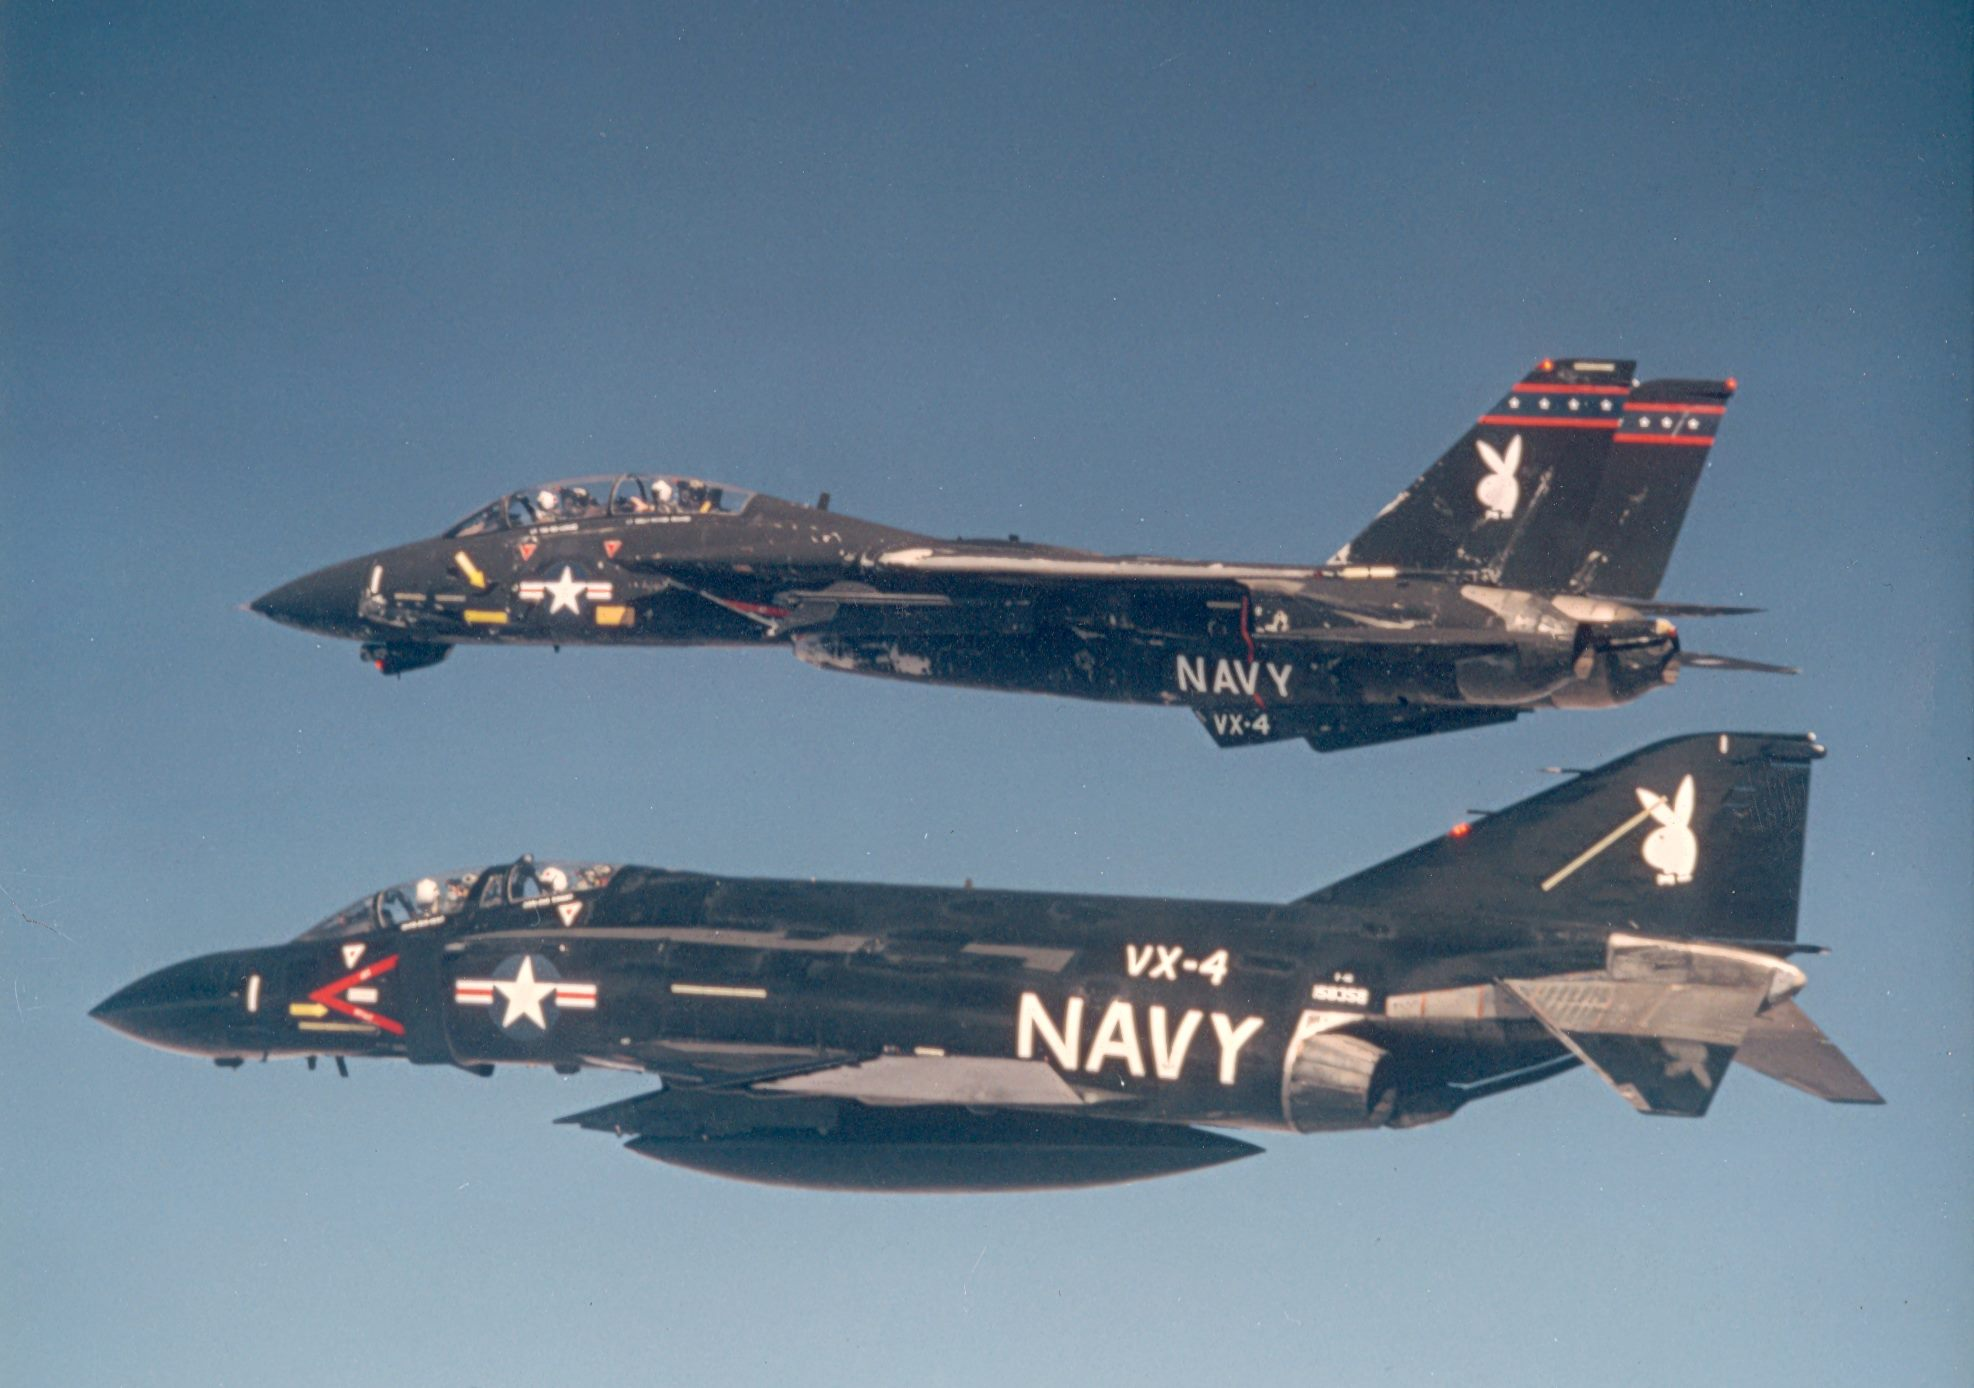F14: (231, 356, 1804, 753)
F4: (86, 730, 1888, 1194)
